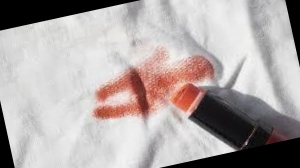lipstick: (81, 45, 224, 127)
